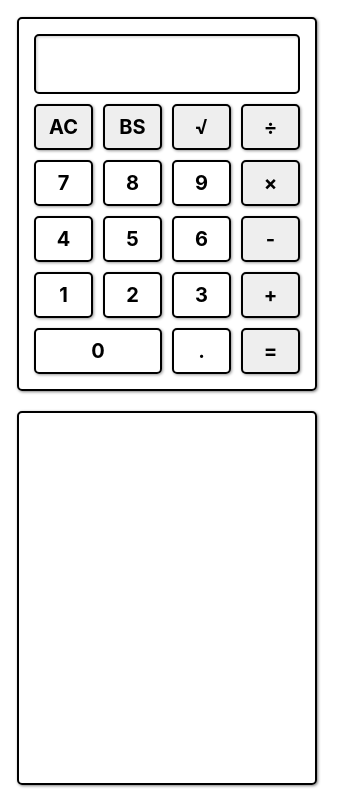
계산기 테스트 › 40 - 31 == 9
The width and height of the screenshot is (337, 797).
Expected: the element with test id "display" is empty, [34, 34, 300, 94]
Click the button "4": (64, 239) [34, 216, 93, 262]
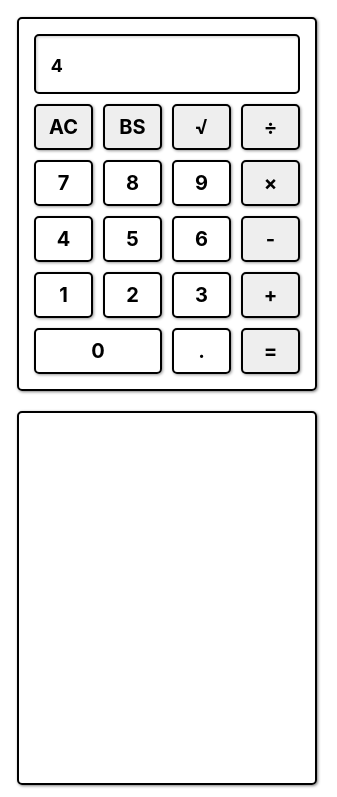
Click the button "0": (98, 351) [34, 328, 162, 374]
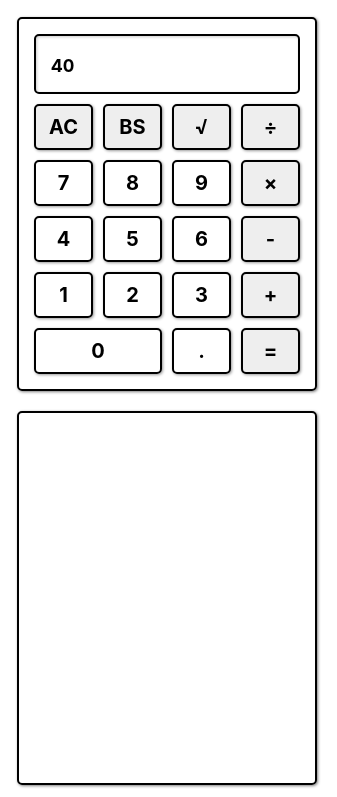
Click the button "-": (270, 239) [241, 216, 300, 262]
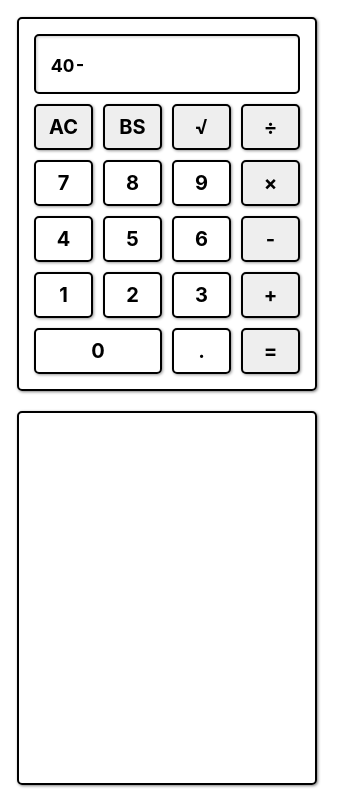
Click the button "3": (202, 295) [172, 272, 231, 318]
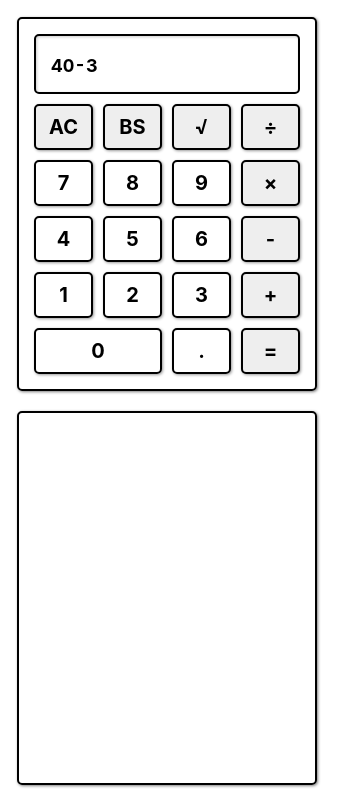
Click the button "1": (64, 295) [34, 272, 93, 318]
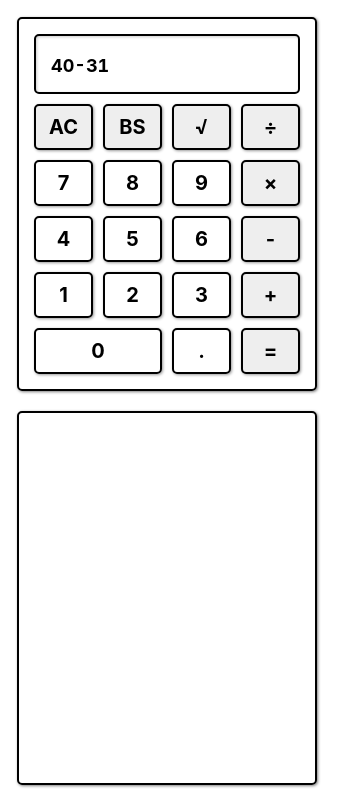
Expected: the text with test id "display" reads "40-31", [51, 55, 109, 76]
Click the button "=": (270, 351) [241, 328, 300, 374]
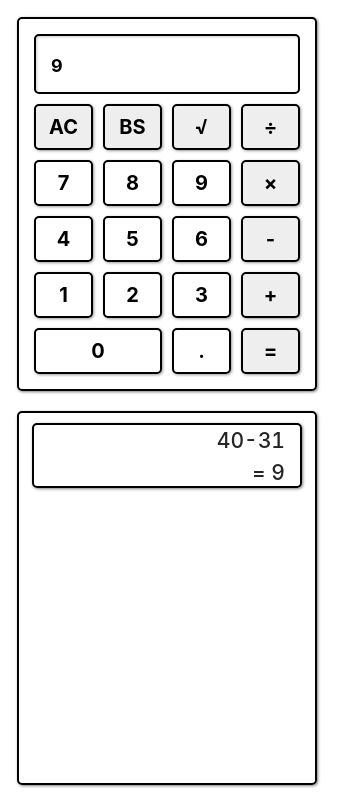
Expected: the text with test id "display" reads "9", [51, 55, 63, 76]
